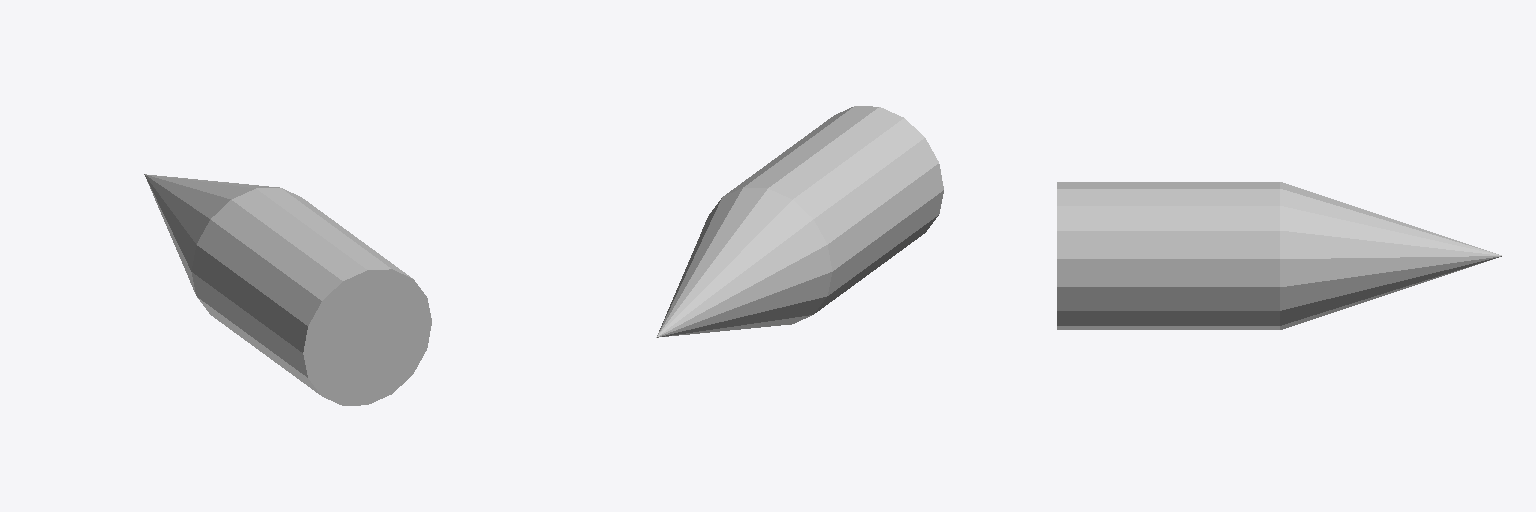
File: 20mm round.obj
The picture shows the model from 3 angles: view 1: azimuth 30°, elevation 25°; view 2: azimuth 150°, elevation 25°; view 3: azimuth 270°, elevation 25°; orthographic projection.
Parts seen in each view (by area): view 1: projectile; view 2: projectile; view 3: projectile.
Part boxes in pixels (x1,y1,x2,y2): projectile: (144,174,431,405); projectile: (656,106,943,337); projectile: (1057,182,1501,329).
Size of the model in its own units: 0.04 by 0.04 by 0.12.